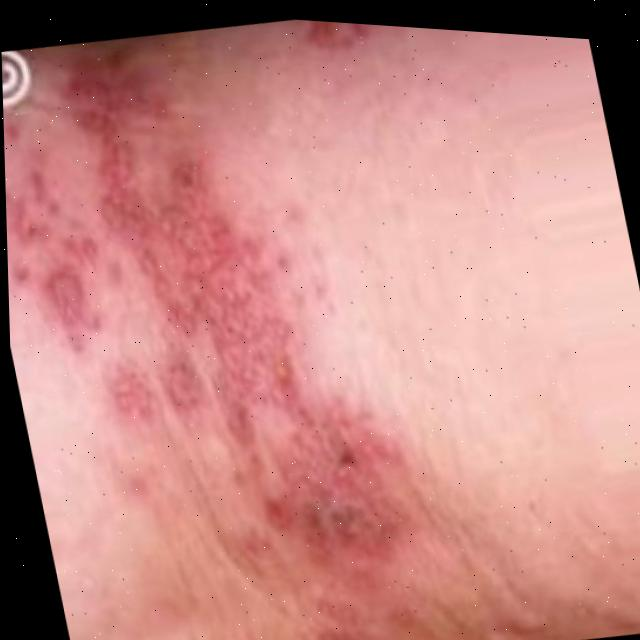Shingles: (0, 7, 409, 640), (303, 20, 368, 49)
